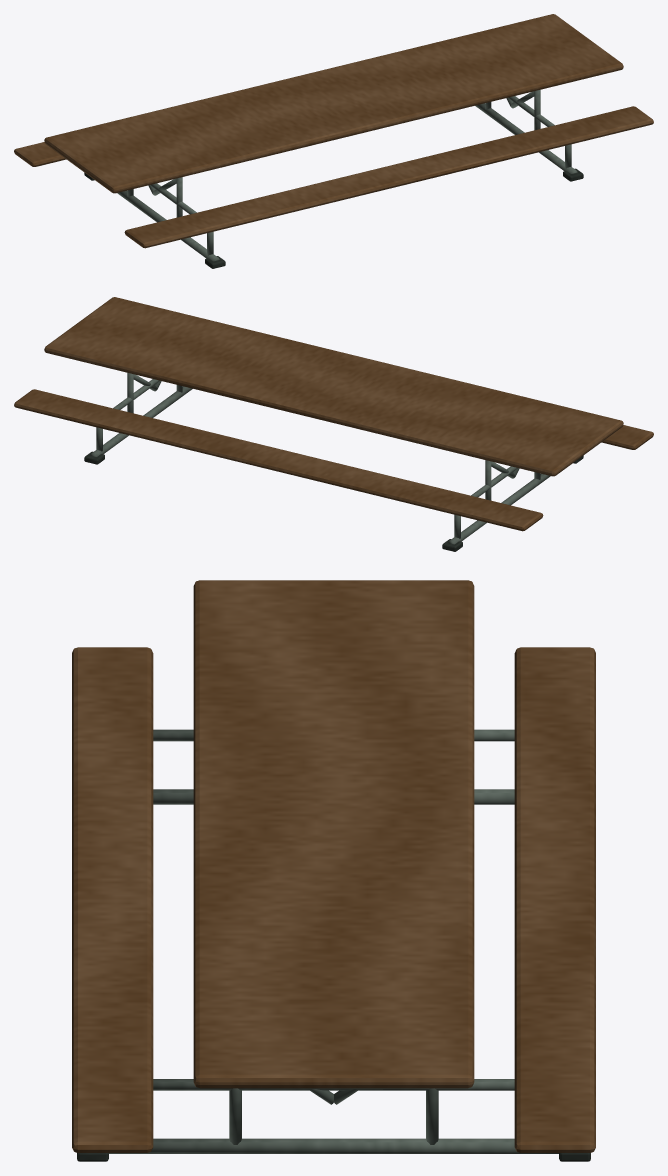
The model's file is DiningBenchSet.fbx.
The picture shows the model from 3 angles, top to bottom: view 1: azimuth 30°, elevation 25°; view 2: azimuth 150°, elevation 25°; view 3: azimuth 270°, elevation 25°; orthographic projection. The views are drawn at different scales.
Parts seen in each view (by area): view 1: DiningBenchSet; view 2: DiningBenchSet; view 3: DiningBenchSet.
Boxes of the visible parts, x1=… form: DiningBenchSet: x1=14, y1=14, x2=653, y2=268; DiningBenchSet: x1=14, y1=297, x2=653, y2=551; DiningBenchSet: x1=72, y1=580, x2=595, y2=1161.
Bounding box in the file's own units: 672 × 96.6 × 298.
Materials: 1 (1 with a texture image).
